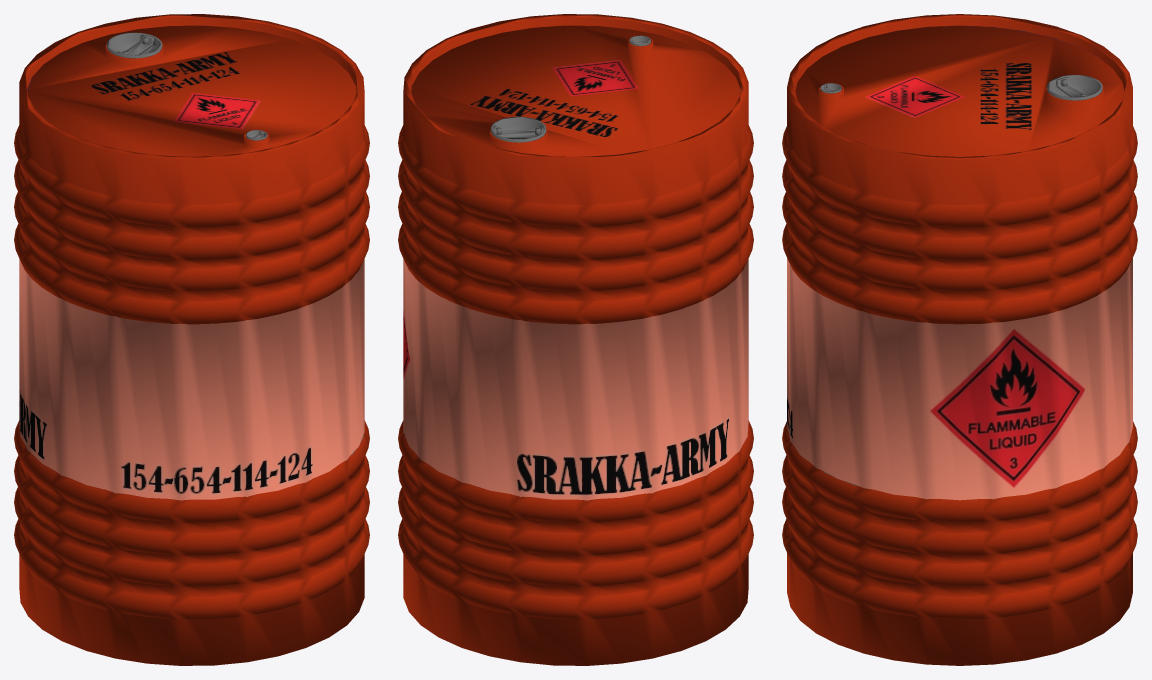
File: tonneau02.fbx
The picture shows the model from 3 angles, left to right: view 1: azimuth 30°, elevation 25°; view 2: azimuth 150°, elevation 25°; view 3: azimuth 270°, elevation 25°; orthographic projection.
Parts seen in each view (by area): view 1: Tonneau, Top; view 2: Tonneau, Top; view 3: Tonneau, Top.
Boxes of the visible parts, bbox=[...] form: Tonneau: bbox=[14, 14, 369, 665]; Top: bbox=[27, 25, 356, 156]; Tonneau: bbox=[398, 14, 753, 665]; Top: bbox=[411, 25, 740, 156]; Tonneau: bbox=[782, 14, 1137, 665]; Top: bbox=[795, 25, 1124, 156].
Bounding box in the file's own units: 83.67 × 131 × 83.67.
